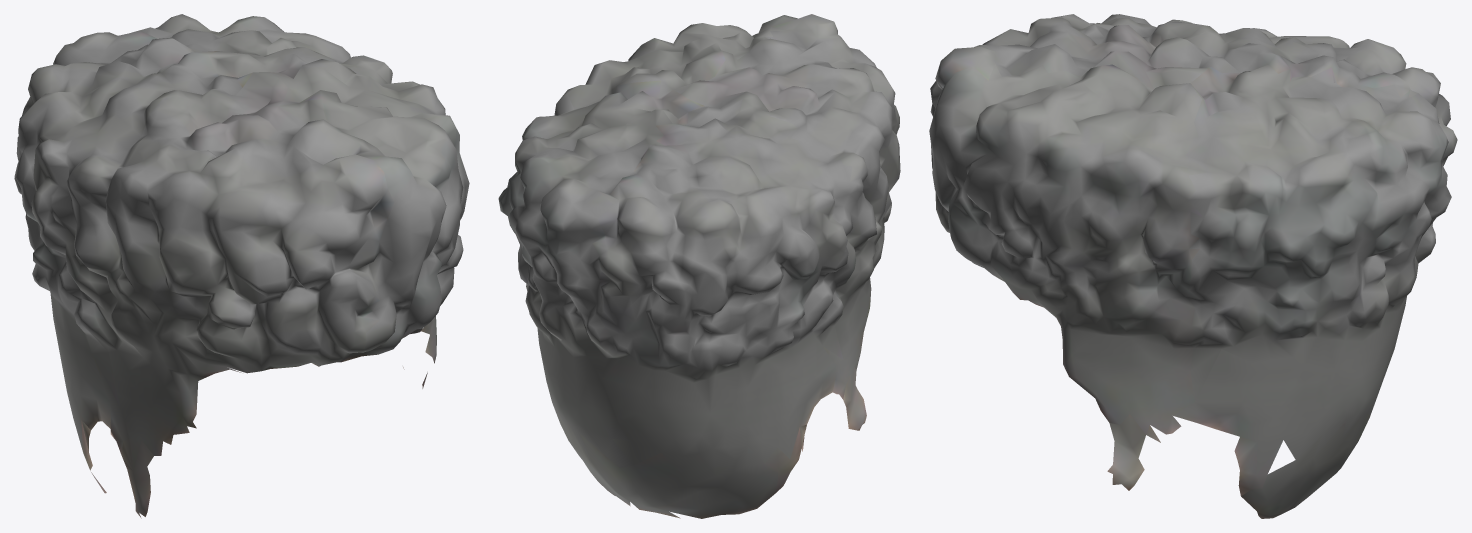
File: hair-m-high-top.glb
3 views of the same model, side by side, from view 1: azimuth 30°, elevation 25°; view 2: azimuth 150°, elevation 25°; view 3: azimuth 270°, elevation 25° (orthographic). The views are drawn at different scales.
Parts seen in each view (by area): view 1: hair-m-high-top; view 2: hair-m-high-top; view 3: hair-m-high-top.
Boxes of the visible parts, x1=… form: hair-m-high-top: x1=14, y1=14, x2=469, y2=518; hair-m-high-top: x1=498, y1=14, x2=900, y2=518; hair-m-high-top: x1=929, y1=14, x2=1457, y2=518.
Bounding box in the file's own units: 0.9011 × 1.04 × 1.15.
Materials: 1 (1 with a texture image).
